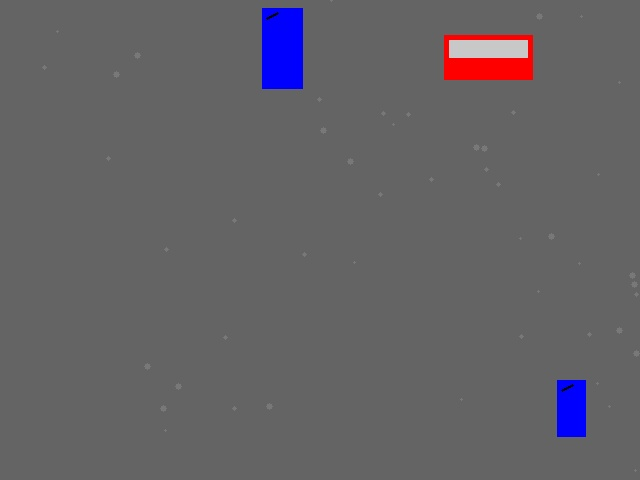car: (444, 35, 532, 79)
motorcycle: (262, 8, 302, 88), (557, 380, 585, 436)
